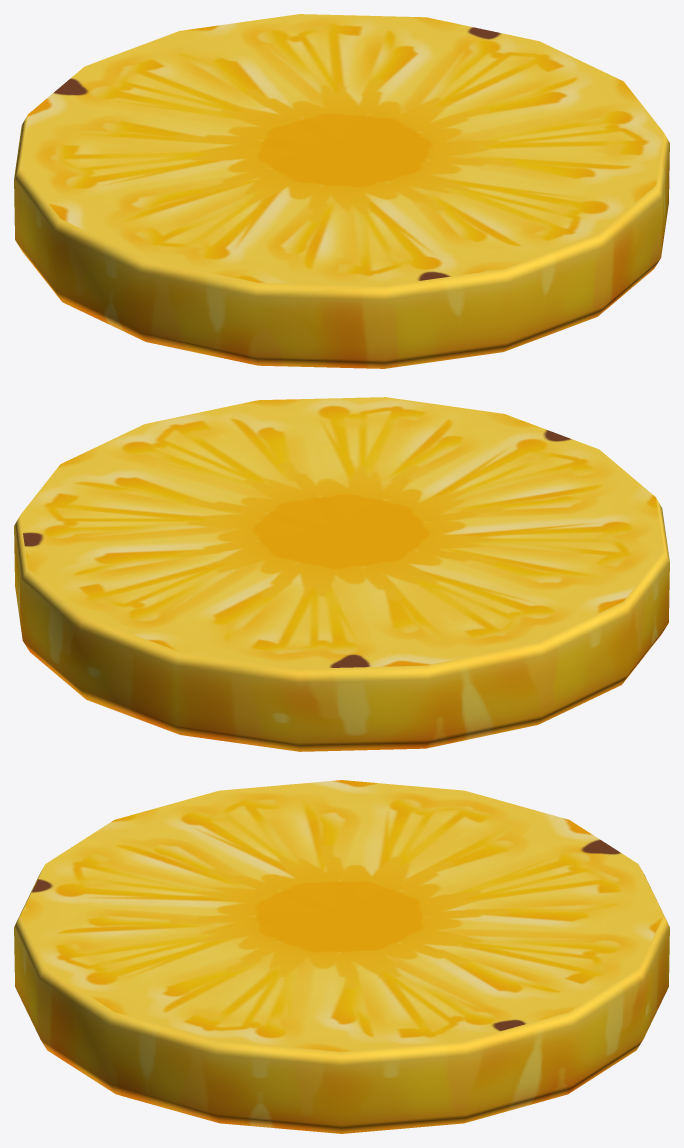
The model's file is Pineapple_Slice.fbx.
3 views of the same model, one above another, from view 1: azimuth 30°, elevation 25°; view 2: azimuth 150°, elevation 25°; view 3: azimuth 270°, elevation 25° (orthographic).
Parts seen in each view (by area): view 1: Pineapple_Slice; view 2: Pineapple_Slice; view 3: Pineapple_Slice.
Part boxes in pixels (<box>): Pineapple_Slice: <box>14,14,669,368</box>; Pineapple_Slice: <box>14,397,669,751</box>; Pineapple_Slice: <box>14,780,669,1133</box>.
Bounding box in the file's own units: 47.98 × 6.7 × 47.98.
